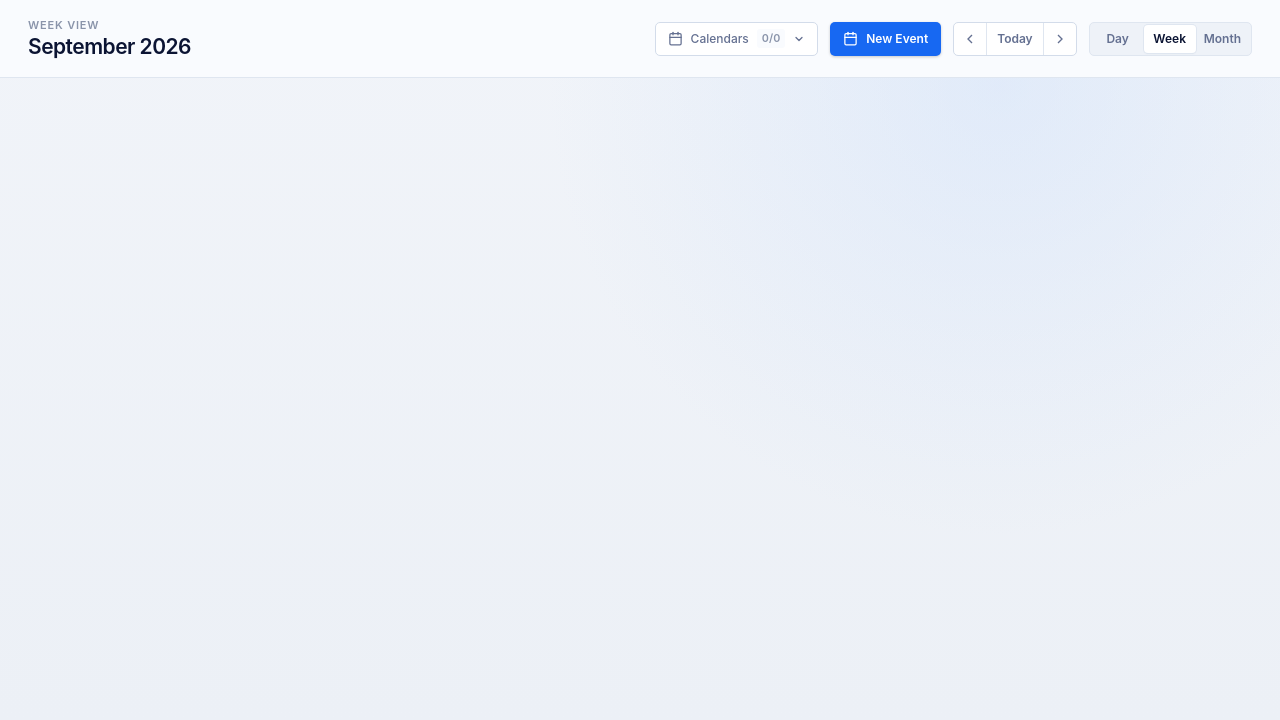
it: CalendarToolbar calendars menu › shows an empty state without calendars
Click the button with aria-label "Filter calendars" at [736, 38], box [655,22,818,56]
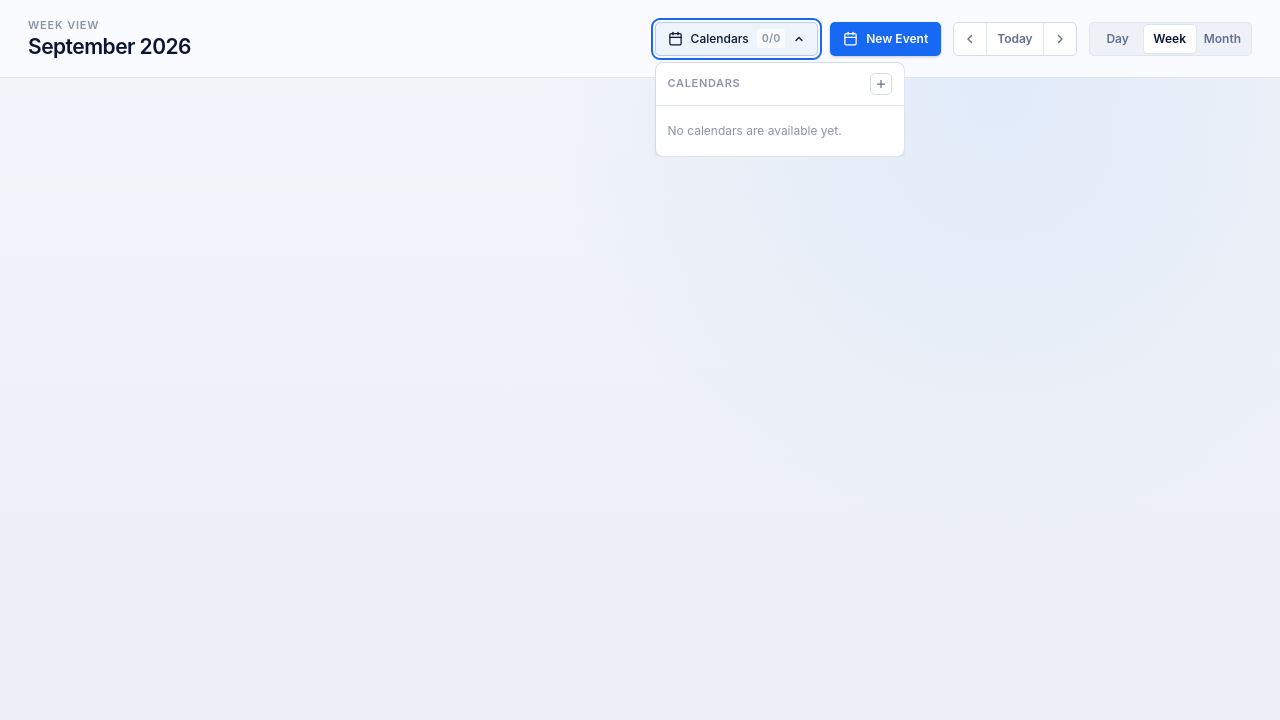
Expected: the dialog named "My calendars" shows "No calendars are available yet.", [668,122,842,138]
